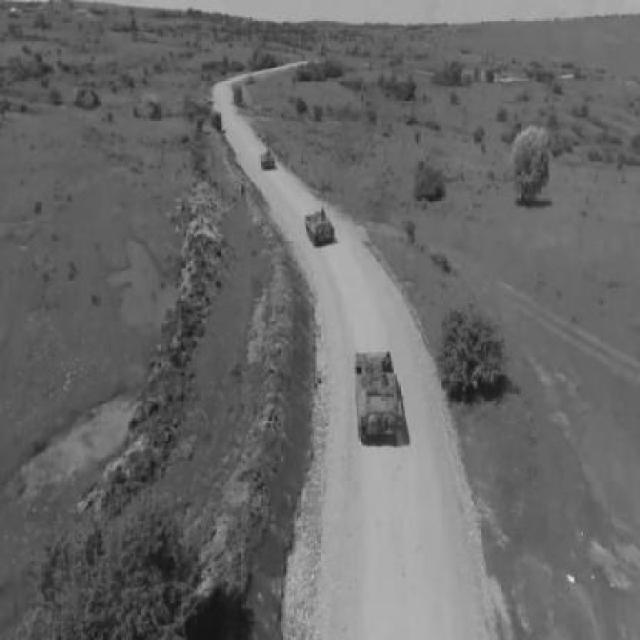Vehicle: (354, 352, 410, 447), (306, 210, 339, 247), (260, 148, 280, 171)
